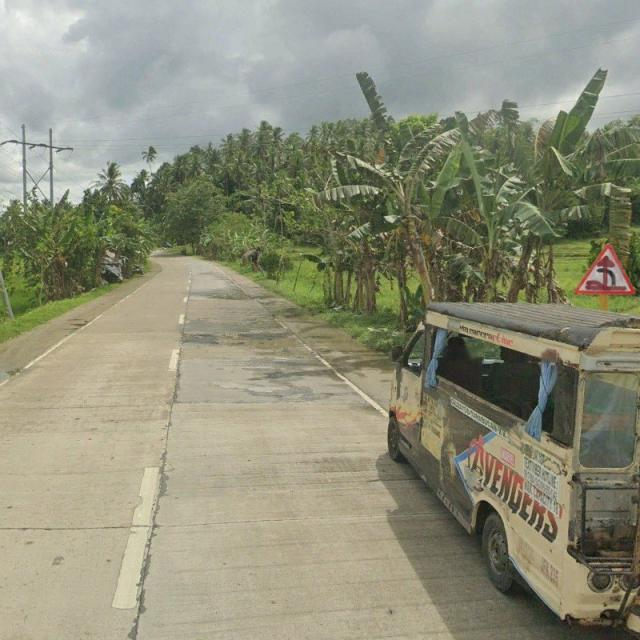warn_left_curve: (574, 243, 636, 294)
